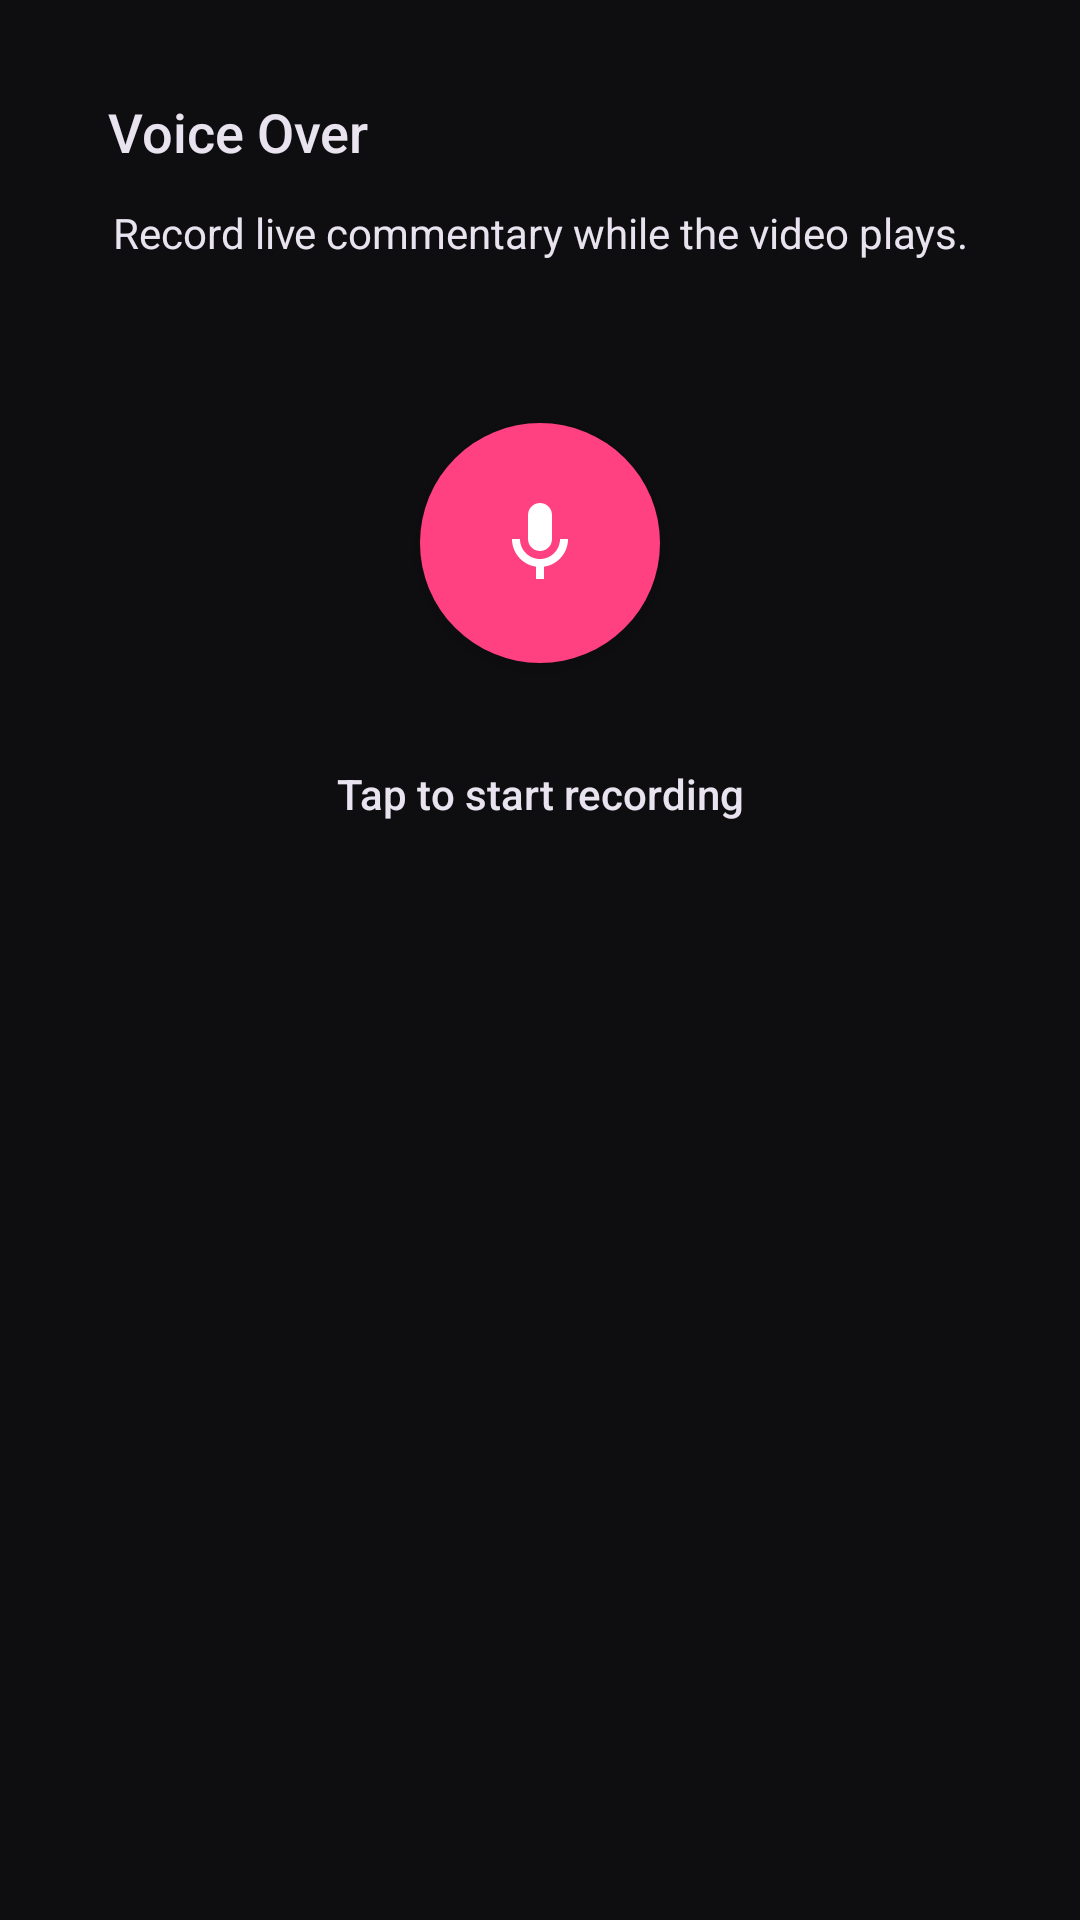

Named icons in this screenshot (1080x1920) and their bounding boxes, (x1, y1, x2, y2):
mic: (420, 423, 660, 663)
